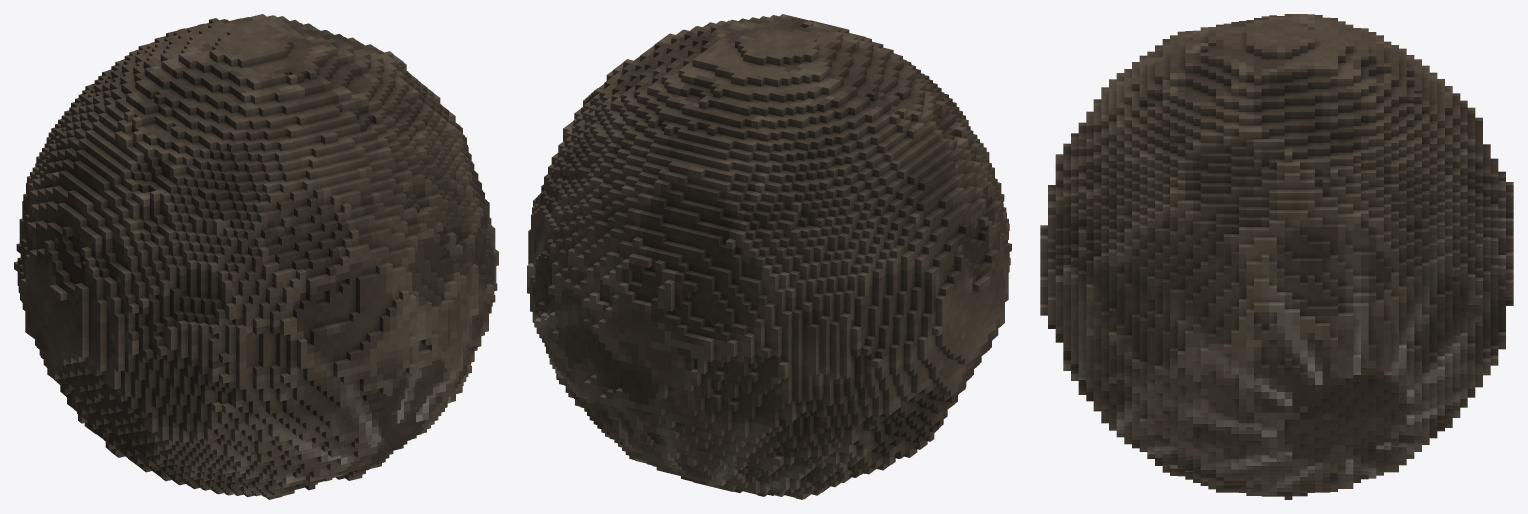
Rendered from callisto_lod0.glb.
3 renders of one model, left to right at view 1: azimuth 30°, elevation 25°; view 2: azimuth 150°, elevation 25°; view 3: azimuth 270°, elevation 25°, orthographic.
Parts seen in each view (by area): view 1: callisto_lod0; view 2: callisto_lod0; view 3: callisto_lod0.
Boxes of the visible parts, <box> form: callisto_lod0: <box>14,14,498,499</box>; callisto_lod0: <box>527,14,1011,499</box>; callisto_lod0: <box>1040,14,1513,499</box>.
Bounding box in the file's own units: 2.1 × 2.1 × 2.07.
